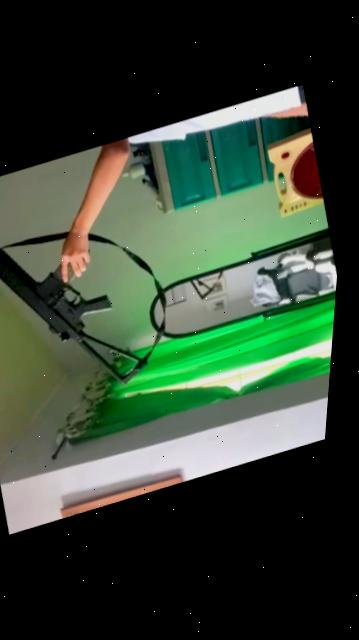rifle: (0, 167, 161, 435)
